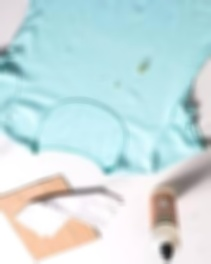oil: (134, 60, 151, 78), (110, 83, 122, 93), (97, 74, 110, 80)
